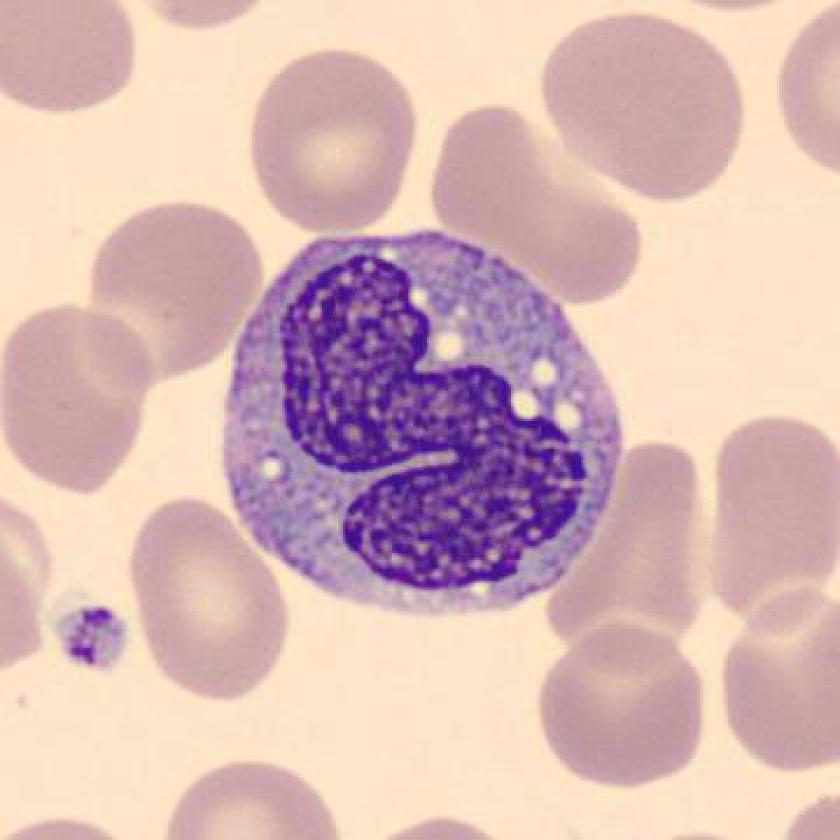monocyte: (209, 214, 645, 637)
